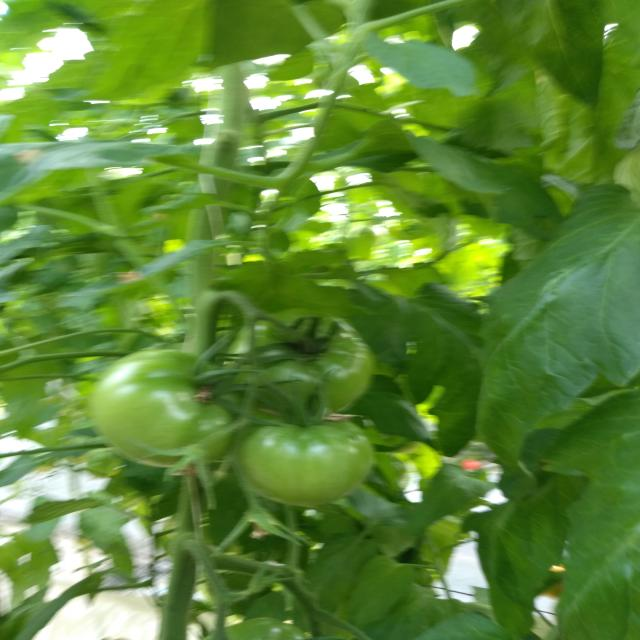yesil: (31, 304, 424, 522)
